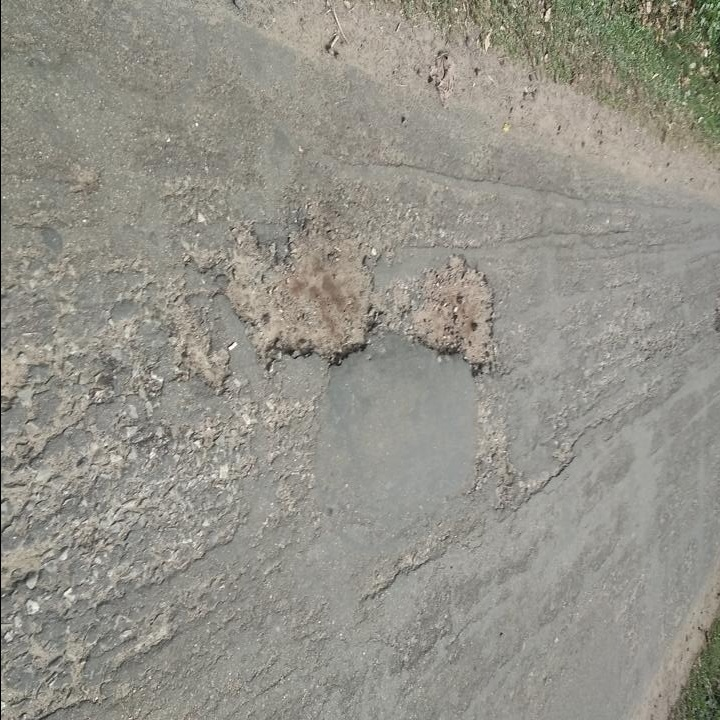pothole: (215, 209, 381, 372), (393, 250, 504, 382)
